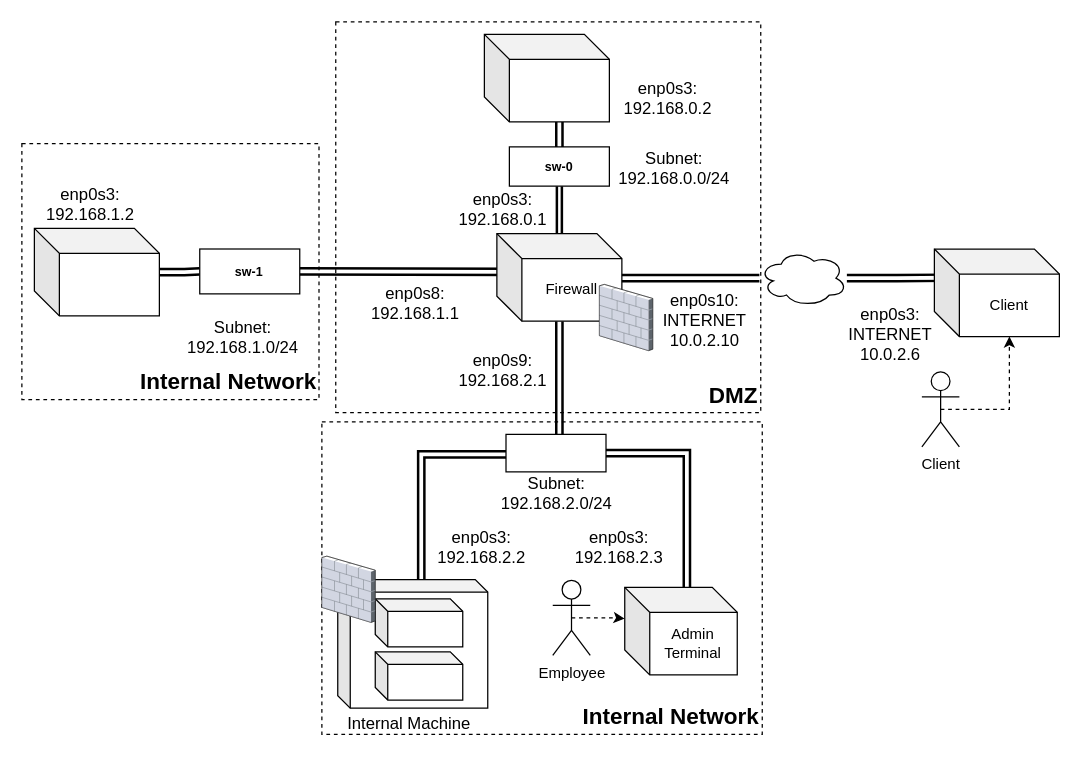
Image size: 1081x769. Some labels were removed from this diagram. Each missing label, with the centre of its shape:
Backoffice: pixel 418 622
Database: pixel 96 271
RBAC: pixel 418 675
sw-2: pixel 555 452
Webserver: pixel 546 77
